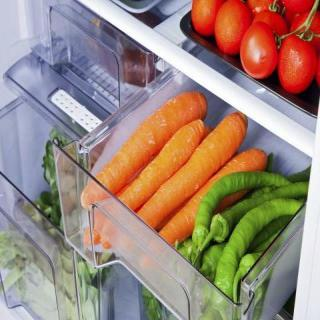carrot: (133, 108, 247, 259), (76, 90, 210, 206), (98, 118, 205, 242)
